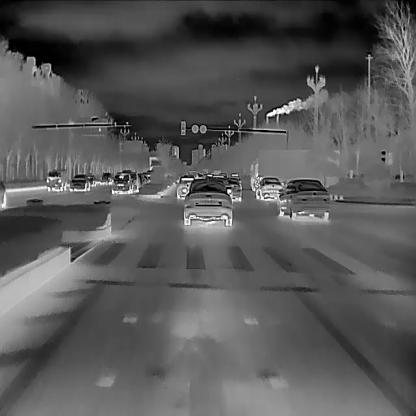car: (182, 177, 233, 226), (278, 177, 330, 219), (255, 176, 281, 199), (176, 174, 198, 198), (112, 170, 132, 194), (70, 171, 90, 192), (223, 175, 239, 200), (125, 170, 137, 192)
truck: (249, 150, 354, 194), (47, 168, 68, 190)
